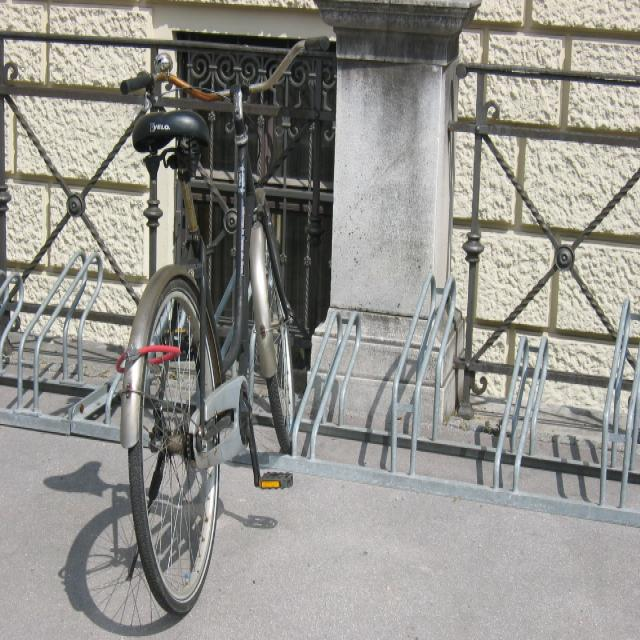bicycle: (114, 37, 320, 614)
